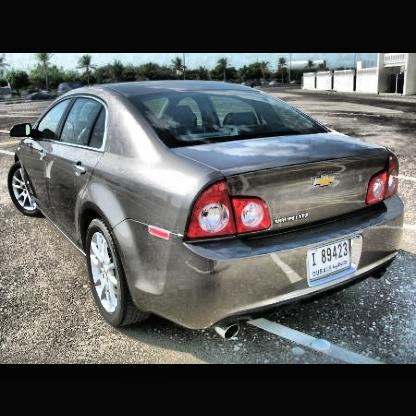Chevrolet Malibu Hybrid Sedan 2010: (9, 77, 410, 342)
